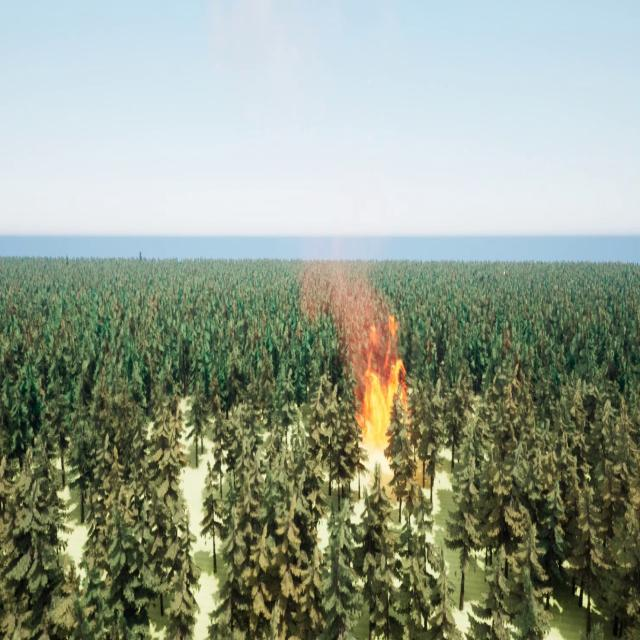fire: (356, 317, 409, 449)
smoke: (302, 245, 397, 384)
